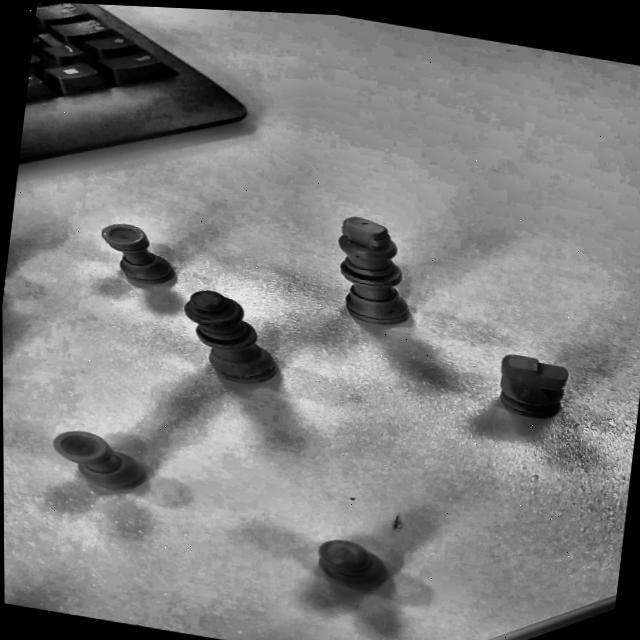white-king: (339, 217, 409, 325)
white-knight: (499, 355, 567, 420)
white-pawn: (316, 539, 390, 591)
white-queen: (185, 291, 277, 383)
white-rook: (54, 431, 147, 491), (102, 224, 174, 285)
